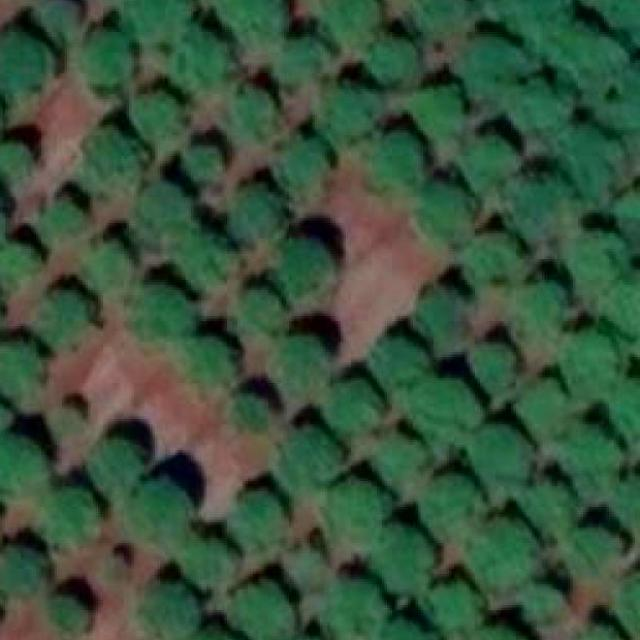Tree: (123, 484, 201, 560), (553, 115, 627, 193), (505, 164, 578, 243), (459, 25, 532, 101), (417, 171, 488, 244), (508, 267, 578, 341), (558, 22, 630, 93), (222, 285, 292, 356), (268, 238, 336, 311), (84, 130, 157, 197), (564, 228, 630, 301), (321, 479, 394, 544), (556, 331, 620, 405), (0, 17, 54, 102), (272, 27, 338, 96), (281, 419, 346, 489), (480, 512, 542, 585), (369, 125, 436, 192), (510, 70, 576, 138), (321, 76, 387, 144), (36, 476, 98, 547), (167, 24, 232, 90), (280, 133, 346, 198), (366, 29, 428, 97), (415, 288, 480, 351), (410, 78, 472, 144), (466, 218, 526, 285), (474, 429, 534, 496), (272, 335, 336, 397), (231, 488, 286, 558), (462, 130, 524, 192), (370, 332, 430, 396), (117, 0, 193, 50), (566, 425, 624, 490), (381, 528, 436, 596), (423, 388, 485, 448), (230, 82, 289, 144), (374, 438, 436, 497), (516, 386, 575, 448), (182, 233, 244, 292), (213, 0, 290, 47), (466, 340, 524, 402), (425, 486, 482, 549), (31, 293, 95, 349), (139, 180, 196, 242), (223, 182, 281, 242), (335, 576, 389, 640), (0, 342, 52, 406), (134, 285, 191, 343), (411, 0, 486, 44), (182, 335, 242, 390), (327, 381, 382, 440), (318, 0, 387, 47), (501, 0, 571, 46), (133, 78, 188, 136), (566, 522, 621, 580), (85, 30, 136, 90), (240, 584, 294, 640), (431, 574, 482, 632), (526, 476, 580, 530), (228, 391, 281, 446), (93, 443, 146, 497), (145, 584, 198, 638), (84, 236, 139, 288), (186, 541, 239, 592), (0, 546, 47, 603), (0, 439, 47, 495), (605, 274, 640, 344), (42, 400, 93, 446), (0, 241, 44, 293), (184, 137, 232, 183), (47, 592, 95, 638), (45, 192, 91, 239), (589, 0, 640, 42), (525, 581, 571, 622), (36, 0, 85, 37), (0, 138, 34, 191), (620, 376, 640, 458), (575, 615, 632, 640), (381, 617, 436, 640), (622, 568, 640, 638), (485, 617, 532, 640), (0, 83, 9, 158), (187, 628, 240, 640), (0, 285, 9, 351), (0, 388, 5, 458), (0, 182, 5, 244)
